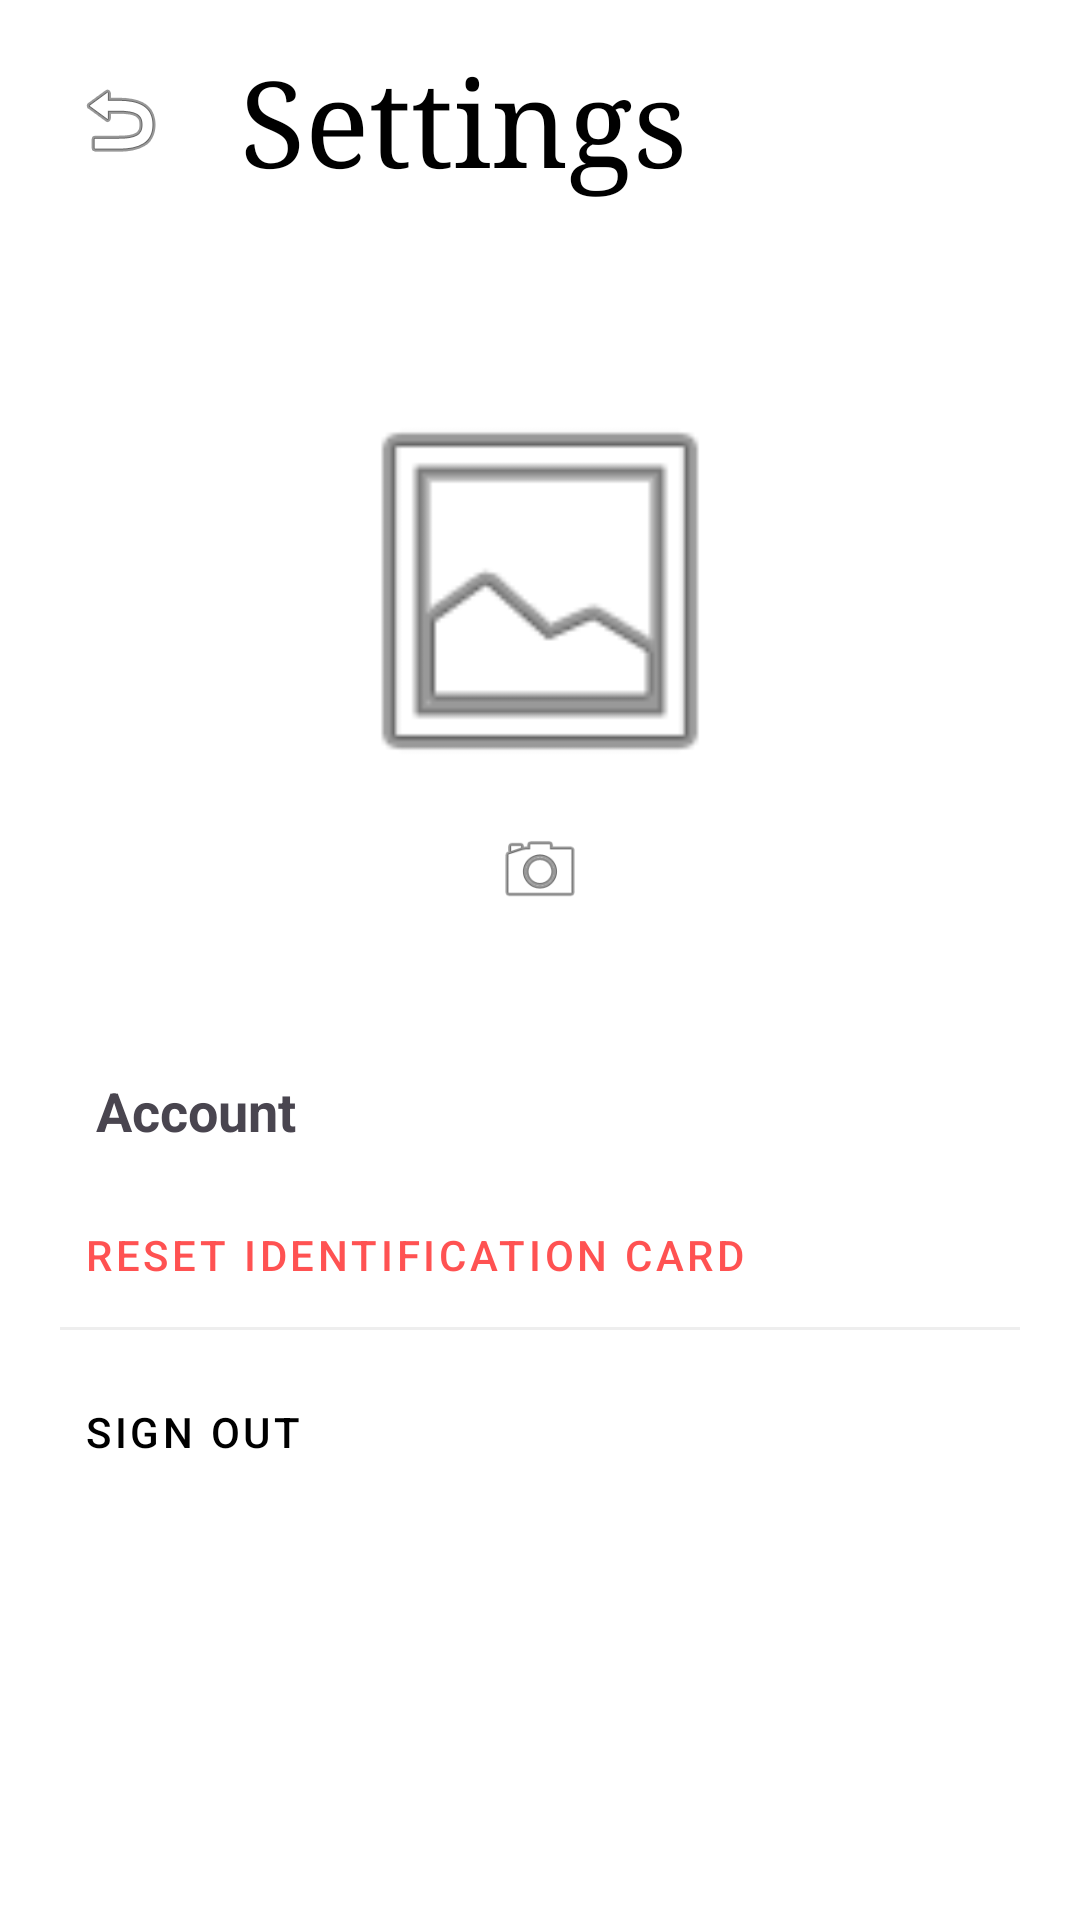

Where to tap for icons on this 1080w x 1920h app screen, as (x,y):
Back: (121,120)
camera: (540,868)
gallery: (540,591)
